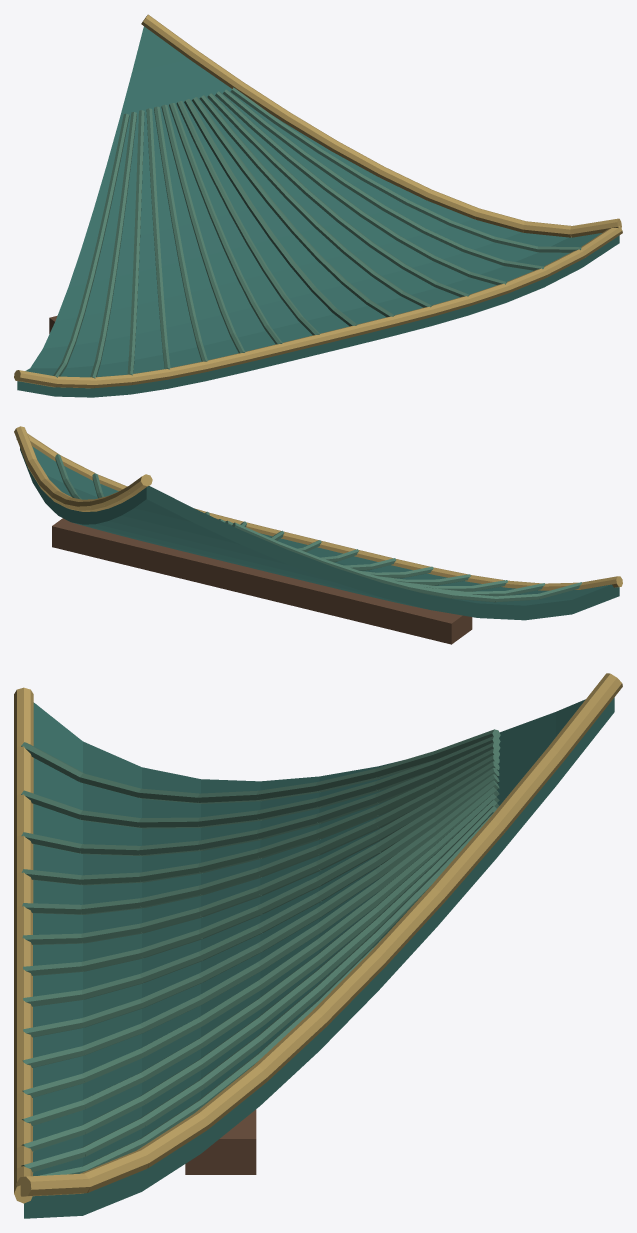
Rendered from roof-section.glb.
3 renders of one model, top to bottom at view 1: azimuth 30°, elevation 25°; view 2: azimuth 150°, elevation 25°; view 3: azimuth 270°, elevation 25°, orthographic. The views are drawn at different scales.
Visible parts, largest first — view 1: roof-section; view 2: roof-section; view 3: roof-section.
Boxes of the visible parts, left/top/right/bottom form: roof-section: left=14, top=14, right=622, bottom=397; roof-section: left=14, top=426, right=622, bottom=644; roof-section: left=14, top=673, right=622, bottom=1218.
Bounding box in the file's own units: 3.03 × 1.01 × 1.55.
